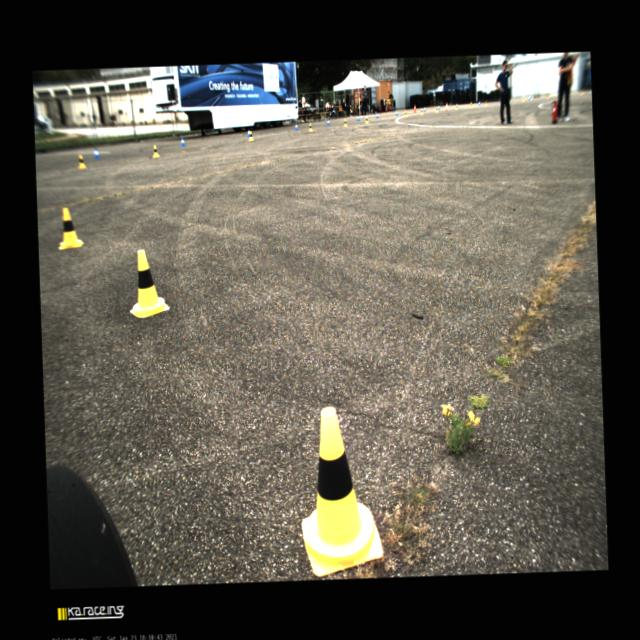blue_cone: (94, 146, 100, 158), (180, 136, 185, 146), (294, 122, 298, 130), (247, 128, 250, 136), (527, 94, 531, 100), (326, 118, 329, 125), (422, 106, 426, 111), (356, 114, 359, 120), (395, 109, 398, 115), (437, 104, 440, 110), (456, 101, 458, 108), (376, 112, 378, 118), (478, 100, 480, 106)
large_orange_cone: (412, 104, 417, 113), (444, 101, 448, 111)
yellow_cone: (297, 405, 383, 576), (127, 248, 169, 318), (56, 206, 84, 248), (78, 154, 86, 168), (152, 144, 159, 157), (248, 130, 254, 141), (520, 95, 526, 102), (546, 92, 551, 100), (308, 122, 312, 131), (364, 115, 368, 124), (343, 118, 347, 126), (403, 110, 407, 118), (434, 106, 438, 113), (580, 88, 584, 95), (454, 104, 458, 110), (469, 100, 472, 108), (420, 108, 423, 115), (484, 100, 487, 106)
